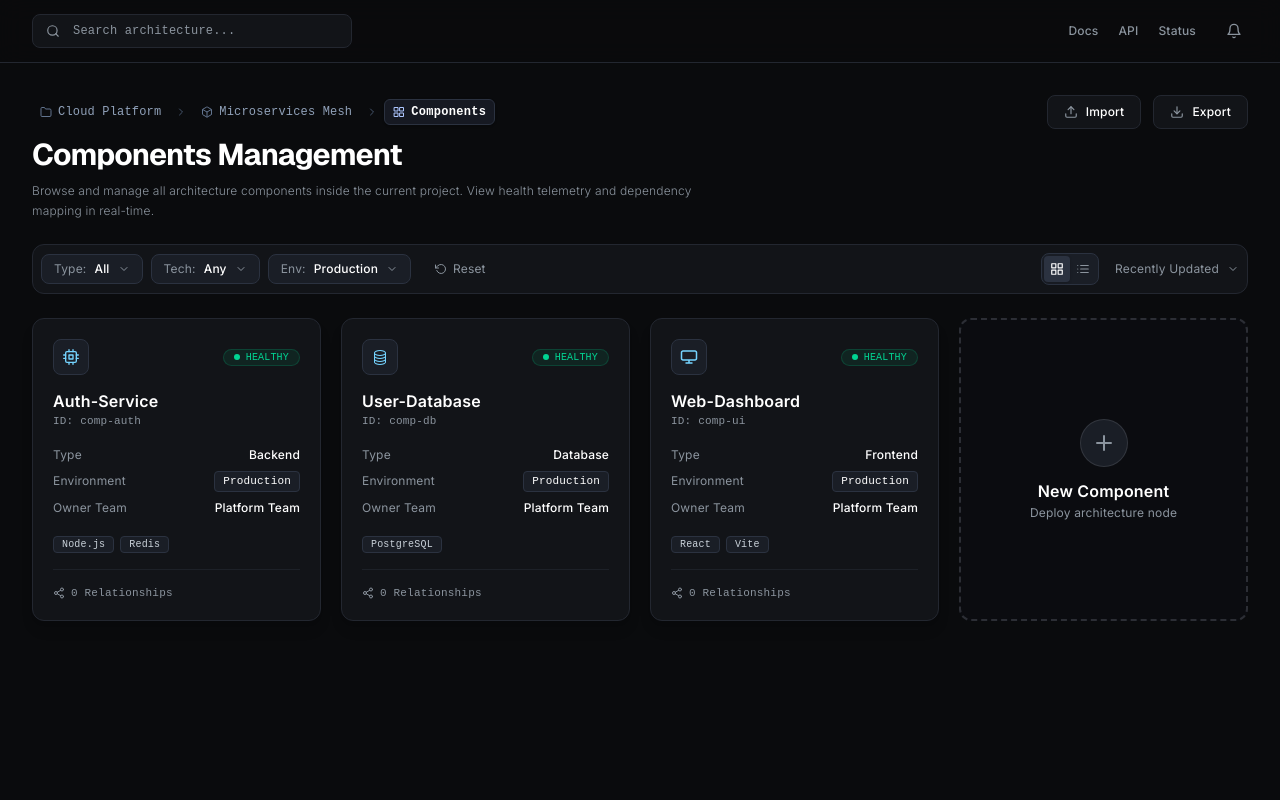
Test: Components Management Center › filters components based on search query
Check: the heading "Auth-Service" is shown, box [53,391,158,411]
In the field with placeholder "Search architecture...": (192, 31) [32,14,352,48], type "Database"
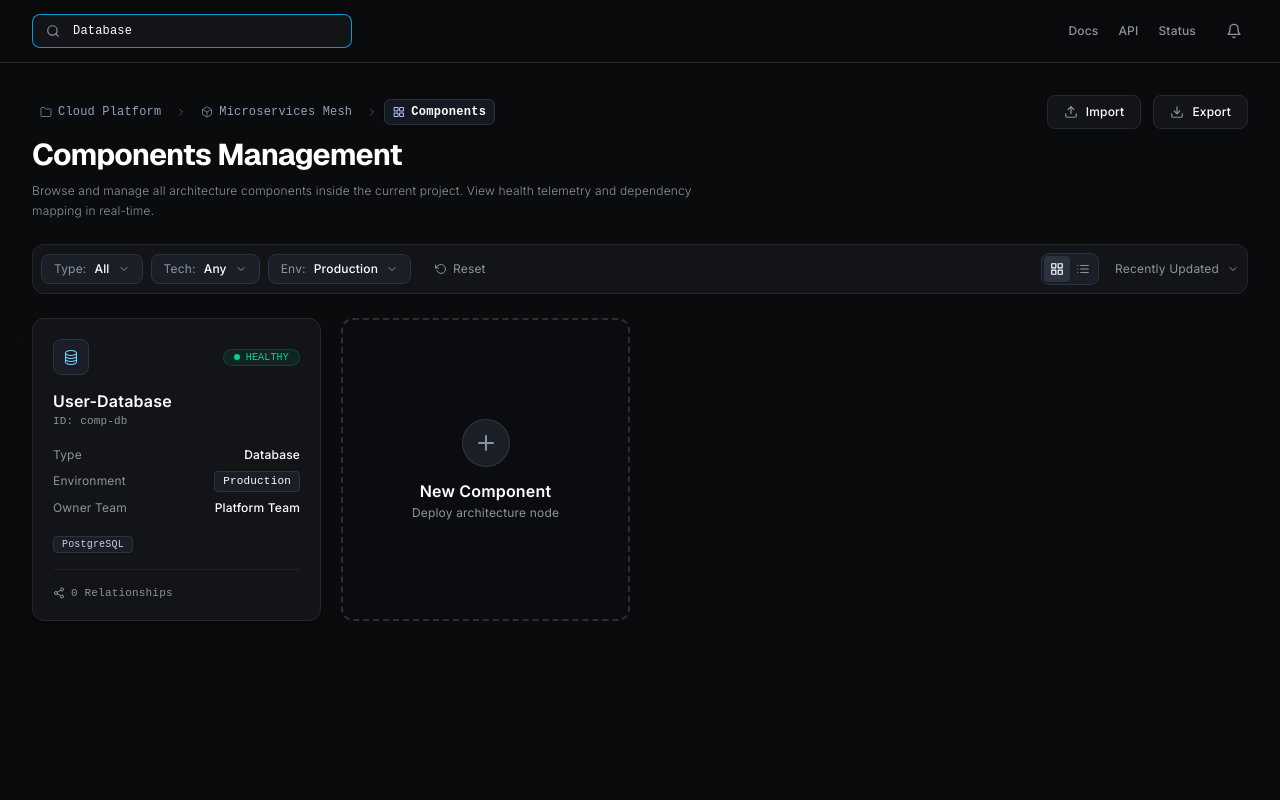
Check: the heading "User-Database" is shown, box [53,391,172,411]
Check: the heading "Auth-Service" is gone
Check: the heading "Web-Dashboard" is gone
